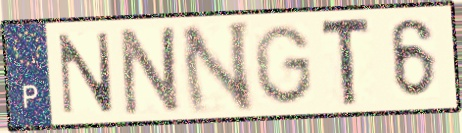6: (387, 16, 440, 101)
G: (250, 22, 316, 108)
N: (177, 17, 257, 117), (118, 22, 185, 118), (55, 29, 116, 117)
T: (319, 14, 374, 110)
